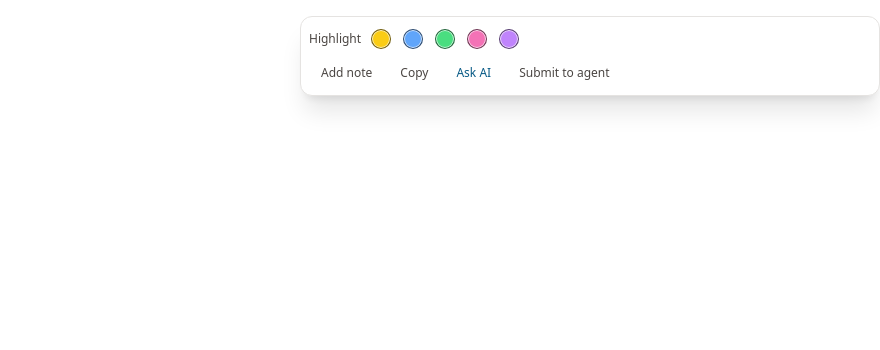
it: annotation renderer UX › re-clamps the toolbar when a failed save widens it, instead of letting it grow over the companion
Click the button "Add note" at (347, 73), box [309, 59, 384, 87]
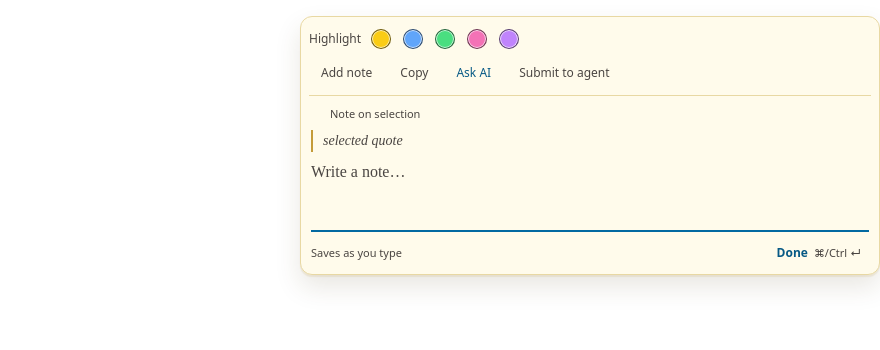
Type "Keep me" into the text box named "Note on selected text" at (590, 196), box [311, 160, 869, 232]
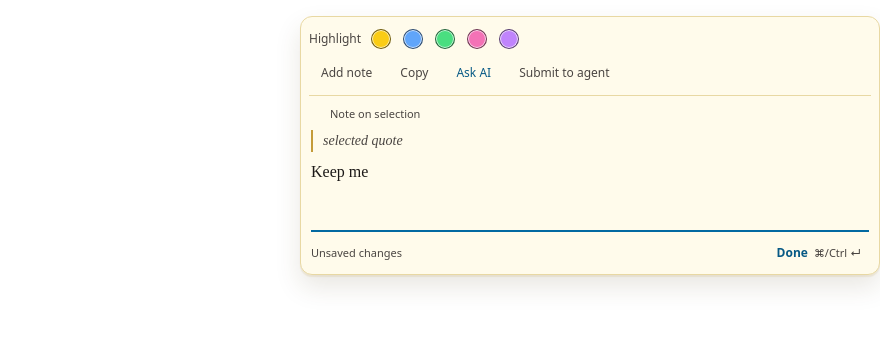
Click the button "Done ⌘/Ctrl ↵" at (819, 253), box [769, 240, 869, 266]
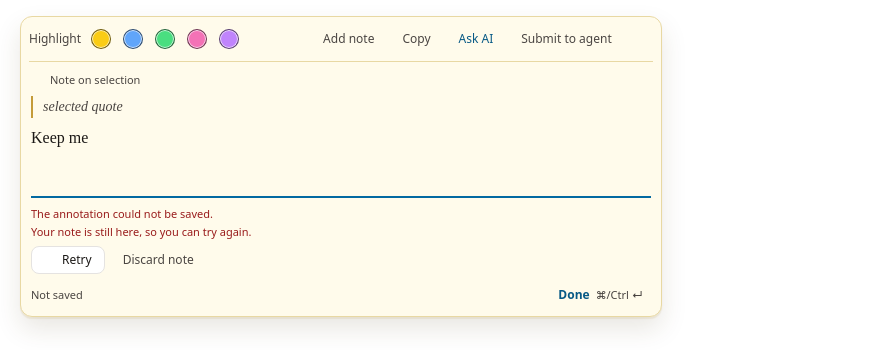
expect the message with test id "selection-note-error" is shown: met, box [31, 206, 251, 274]
